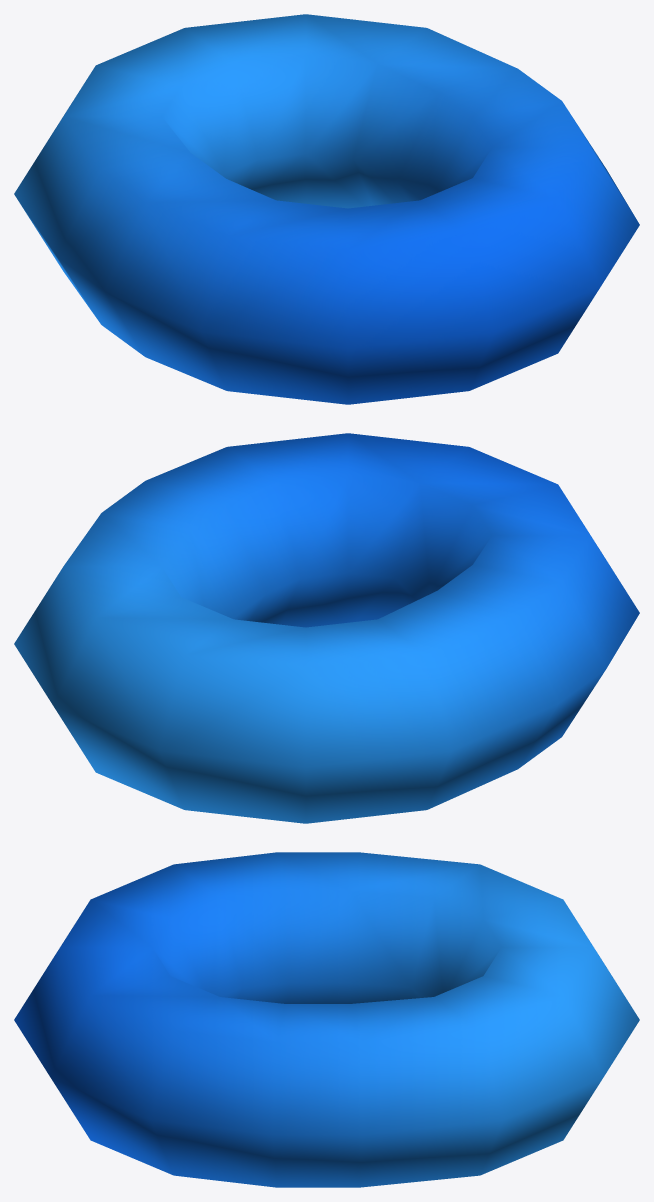
File: CartoonFont_0.FBX
The picture shows the model from 3 angles, top to bottom: view 1: azimuth 30°, elevation 25°; view 2: azimuth 150°, elevation 25°; view 3: azimuth 270°, elevation 25°; orthographic projection. The views are drawn at different scales.
Parts seen in each view (by area): view 1: 0; view 2: 0; view 3: 0.
Part boxes in pixels (box(x1,y1,x2,y2)): 0: box(14, 14, 639, 404); 0: box(14, 433, 639, 823); 0: box(14, 852, 639, 1187).
Size of the model in its own units: 27.37 by 8.06 by 31.57.
Materials: 1 (1 with a texture image).
